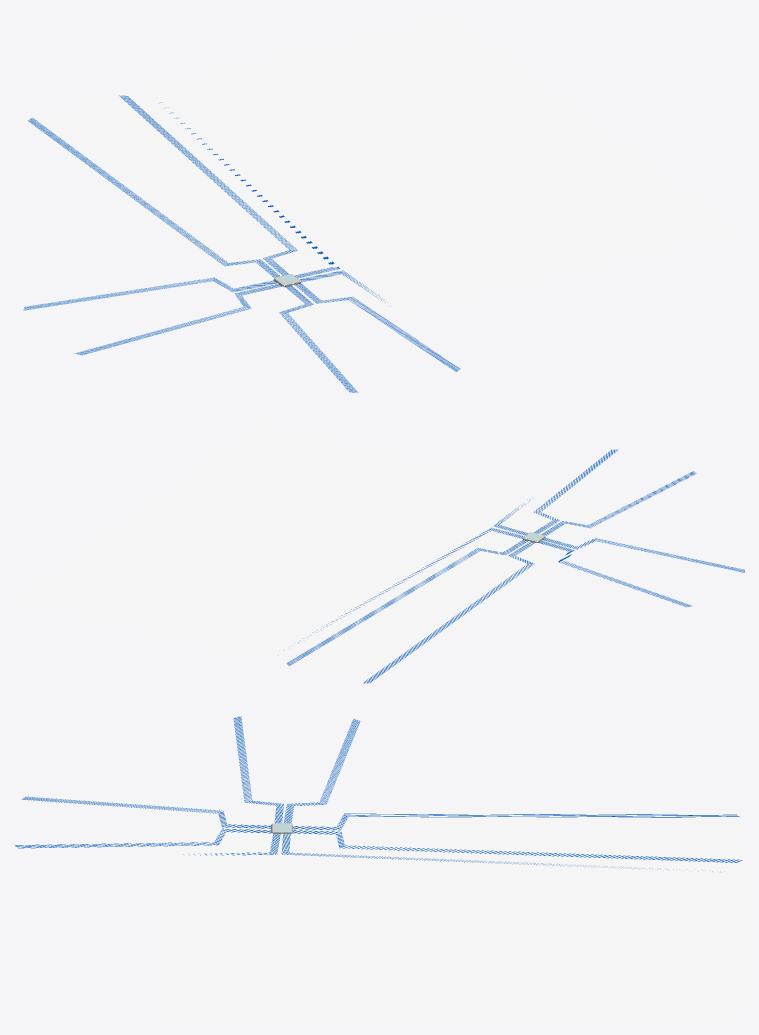
3 views of the same model, one above another, from view 1: azimuth 30°, elevation 25°; view 2: azimuth 150°, elevation 25°; view 3: azimuth 270°, elevation 25° (orthographic). The views are drawn at different scales.
Visible parts, largest first — view 1: floor, path; view 2: floor, path; view 3: floor, path.
Part boxes in pixels (x1,y1,x2,y2): floor: [14, 14, 744, 337]; path: [23, 95, 460, 392]; floor: [14, 421, 619, 687]; path: [286, 449, 744, 683]; floor: [158, 810, 744, 1020]; path: [14, 716, 742, 871].
Bounding box in the file's own units: 70.55 × 0.2343 × 71.6.
Materials: 5 (1 with a texture image).
